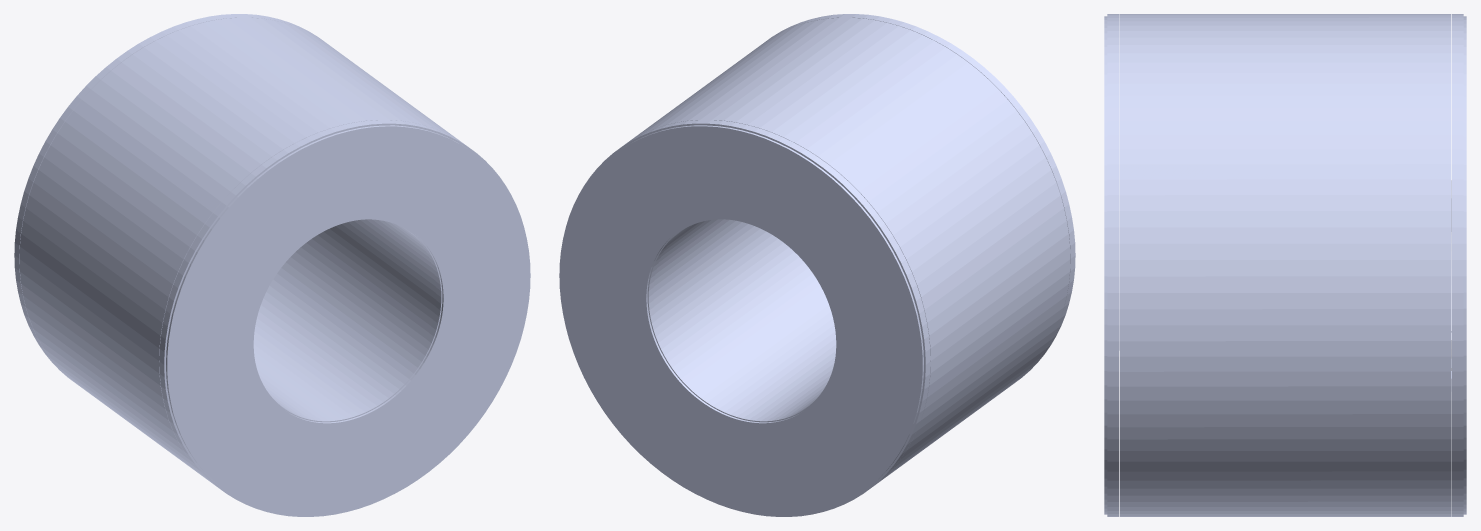
The model's file is TRT_BAR.gltf.
The picture shows the model from 3 angles, left to right: view 1: azimuth 30°, elevation 25°; view 2: azimuth 150°, elevation 25°; view 3: azimuth 270°, elevation 25°; orthographic projection. The views are drawn at different scales.
Parts seen in each view (by area): view 1: _045A38A8, _043513E8; view 2: _045A38A8, _043513E8; view 3: _045A38A8, _043513E8.
Boxes of the visible parts, bbox=[...] form: _045A38A8: bbox=[19, 17, 460, 482]; _043513E8: bbox=[14, 14, 530, 516]; _045A38A8: bbox=[629, 17, 1070, 482]; _043513E8: bbox=[559, 14, 1075, 516]; _045A38A8: bbox=[1119, 14, 1451, 516]; _043513E8: bbox=[1104, 14, 1466, 516].
Bounding box in the file's own units: 2.16 × 2.16 × 1.56.
